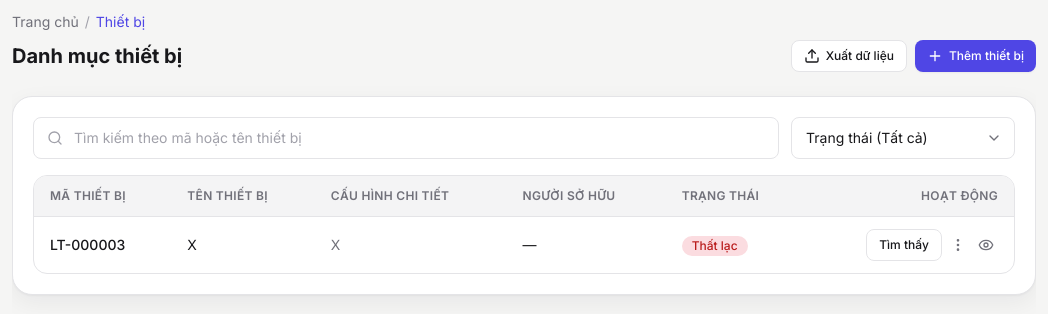
Test: Trưởng phòng Kỹ thuật: máy "Thất lạc" có nút "Tìm thấy" → POST /devices/:id/found rồi tải lại
This screenshot has width=1048, height=314.
Click the button "Tìm thấy" at (904, 245), box [866,229,942,261]
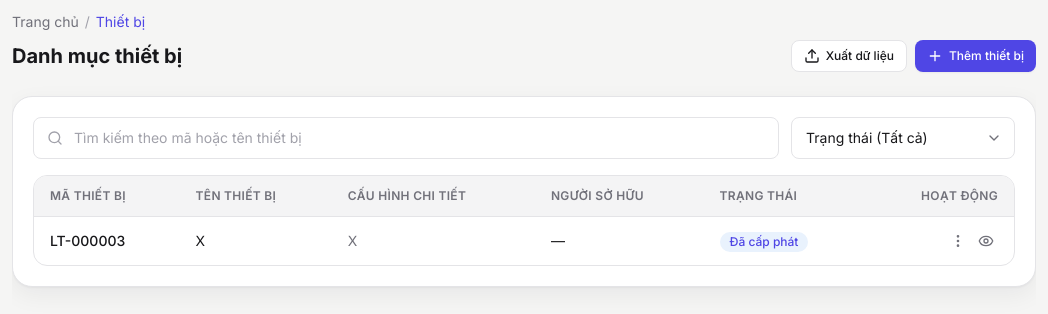
Result: the button "Tìm thấy" is gone
